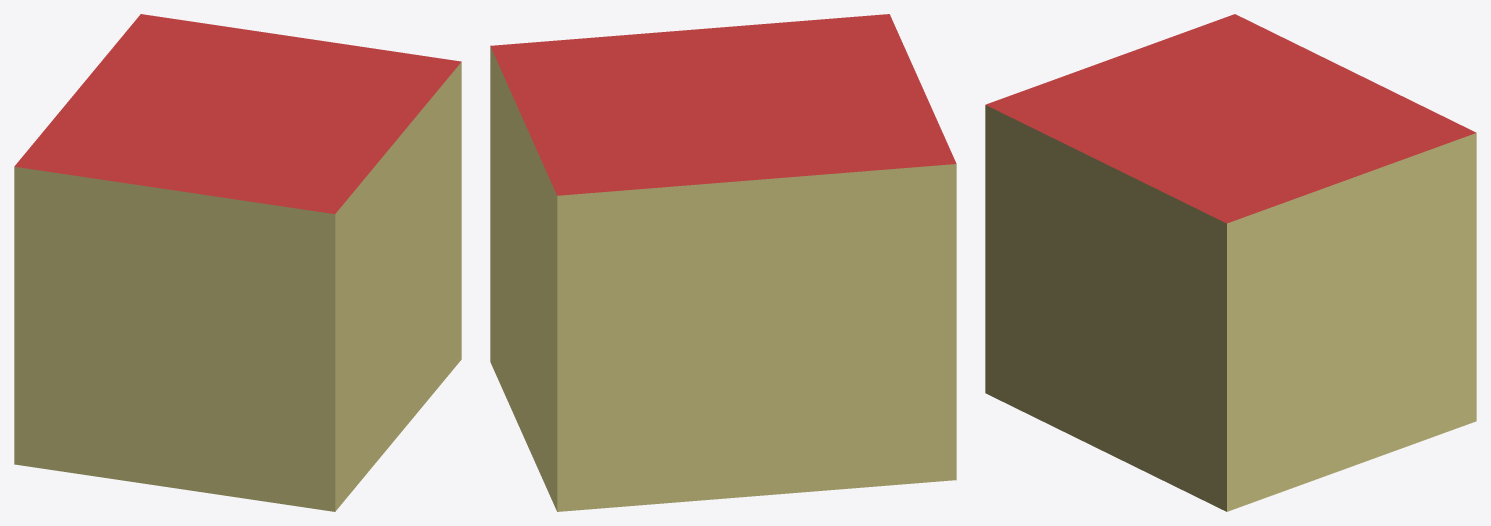
The picture shows the model from 3 angles, left to right: view 1: azimuth 30°, elevation 25°; view 2: azimuth 150°, elevation 25°; view 3: azimuth 270°, elevation 25°; orthographic projection. The views are drawn at different scales.
Bounding box in the file's own units: 8.34 × 8.26 × 5.35.
